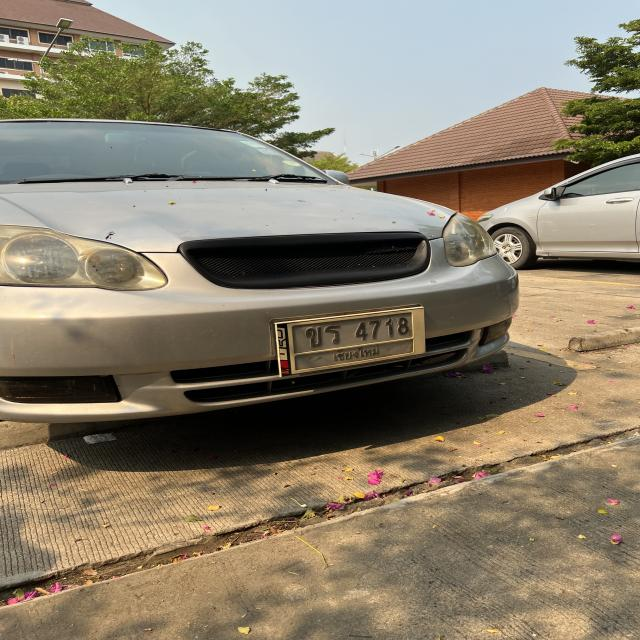license_plate: (275, 305, 427, 378)
